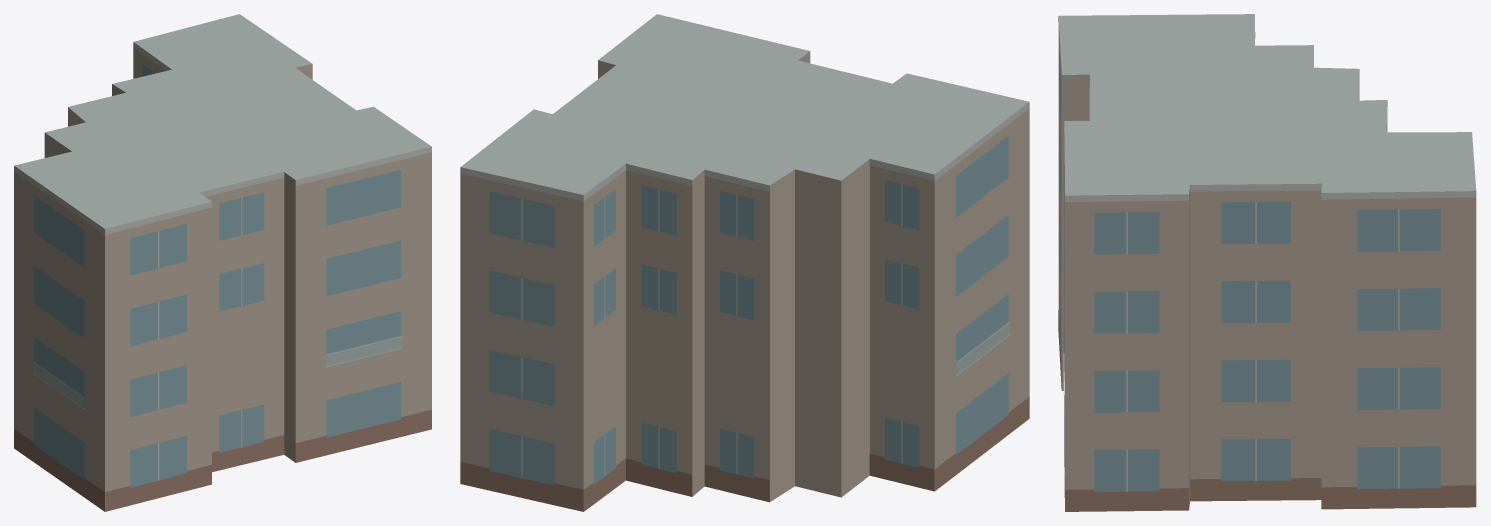
The model's file is survey-upis-32501180.glb.
3 views of the same model, side by side, from view 1: azimuth 30°, elevation 25°; view 2: azimuth 150°, elevation 25°; view 3: azimuth 270°, elevation 25° (orthographic). The views are drawn at different scales.
Parts seen in each view (by area): view 1: survey-upis-32501180.tmp; view 2: survey-upis-32501180.tmp; view 3: survey-upis-32501180.tmp.
Boxes of the visible parts, x1,y1,x2,y2 form: survey-upis-32501180.tmp: (14,14,431,511); survey-upis-32501180.tmp: (460,14,1029,511); survey-upis-32501180.tmp: (1058,14,1476,511).
Size of the model in its own units: 14.64 by 11.88 by 14.23.
